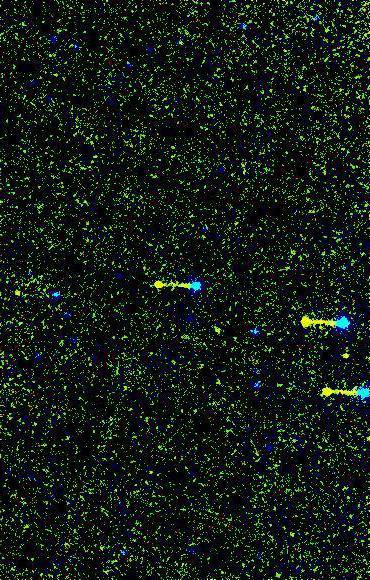star: (330, 340, 360, 370)
